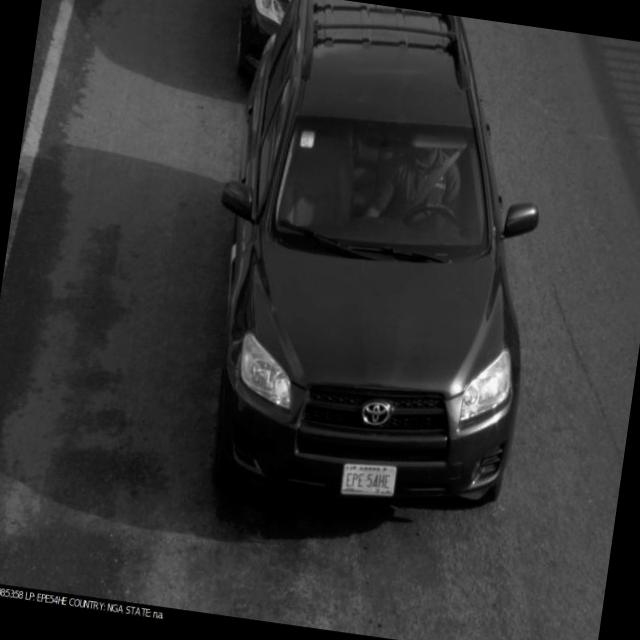person_with_seatbelt: (367, 116, 485, 258)
